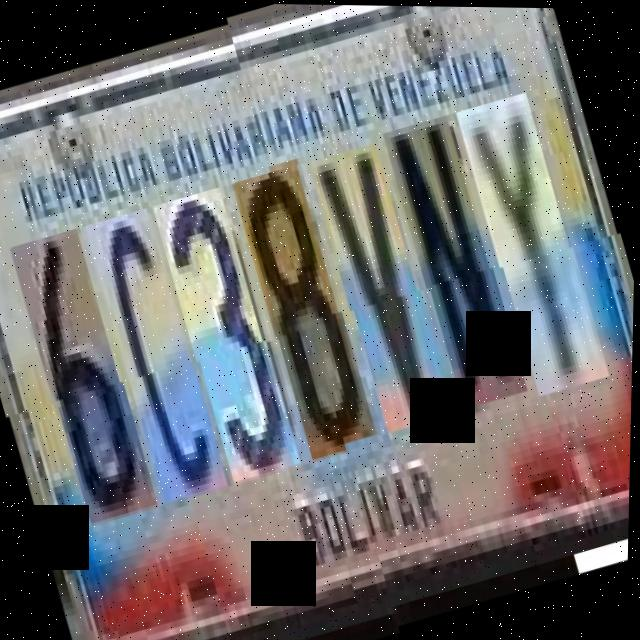3: (151, 184, 308, 484)
6: (8, 226, 166, 526)
8: (231, 161, 388, 461)
C: (82, 206, 235, 505)
N: (383, 118, 537, 417)
V: (308, 146, 464, 439)
Y: (456, 95, 617, 401)
